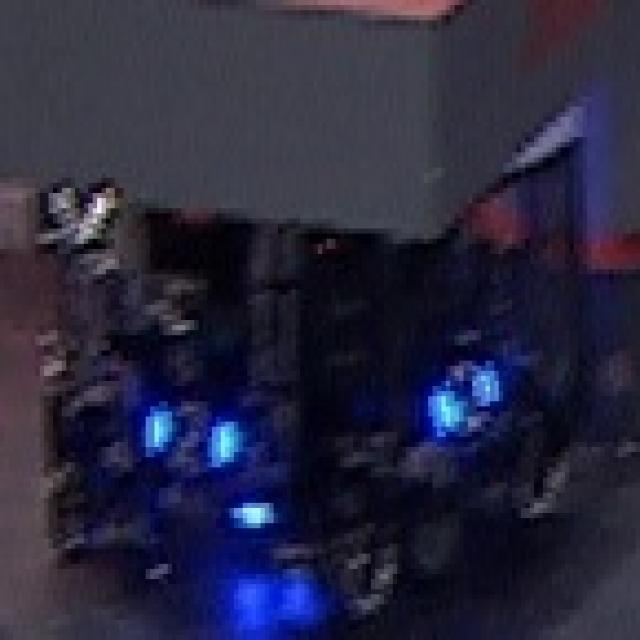B2: (128, 386, 238, 472), (419, 355, 503, 442)
